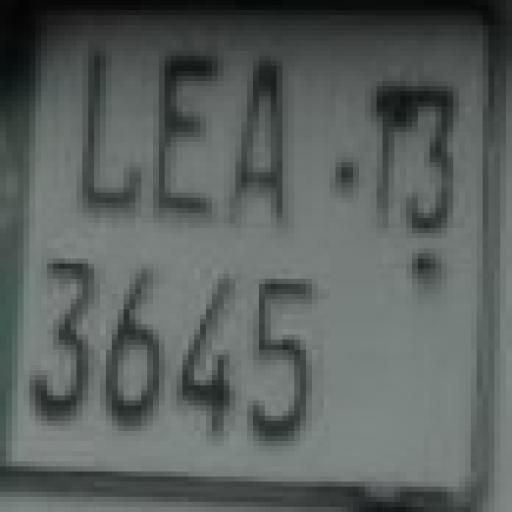3: (26, 251, 99, 424)
4: (178, 273, 240, 449)
5: (251, 264, 320, 458)
6: (104, 270, 164, 436)
A: (230, 54, 290, 226)
E: (160, 32, 215, 218)
L: (64, 38, 148, 226)
